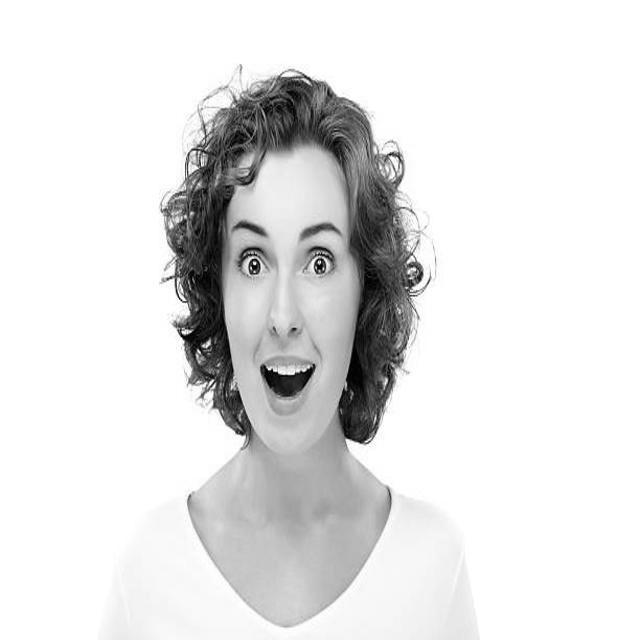Surprised: (221, 146, 361, 457)
